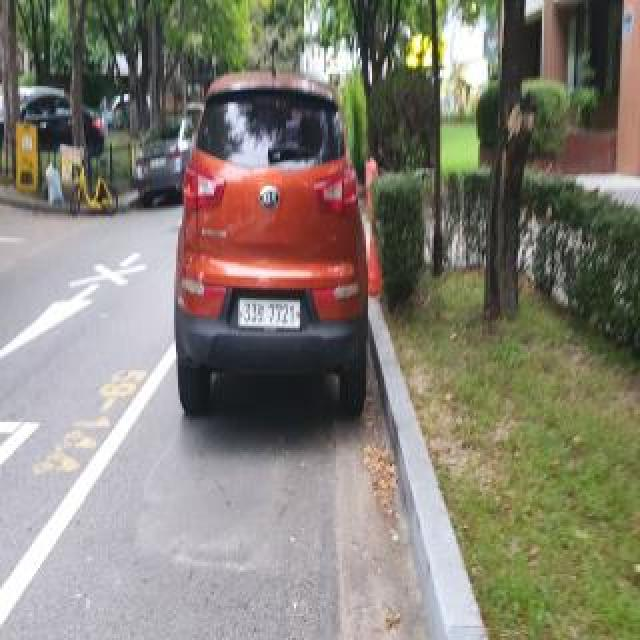car: (167, 58, 384, 431)
illegal_plate: (233, 292, 303, 336)
